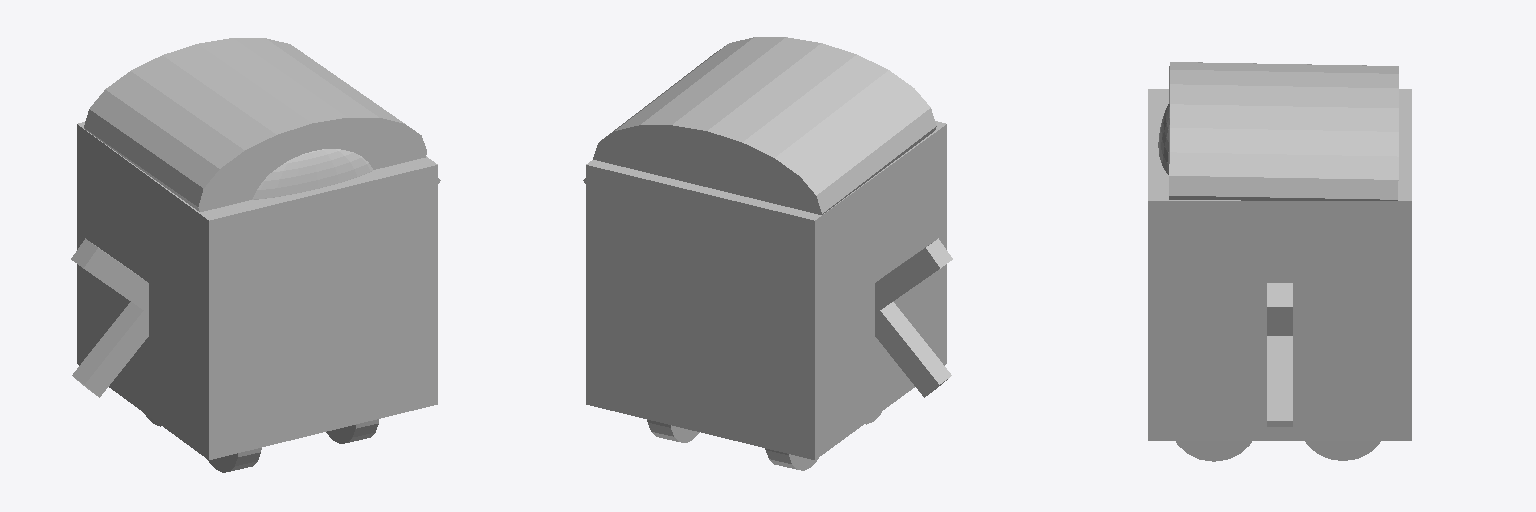
File: AssistBody.obj
The picture shows the model from 3 angles: view 1: azimuth 30°, elevation 25°; view 2: azimuth 150°, elevation 25°; view 3: azimuth 270°, elevation 25°; orthographic projection.
Visible parts, largest first — view 1: pCube8, pCylinder7, pSphere3, pCube9, pasted__pCube13, pasted__pasted__pCylinder8, pCylinder8; view 2: pCube8, pCylinder7, pCube9, pasted__pCube13, pasted__pCylinder8, pasted__pCylinder13; view 3: pCube8, pCylinder7, pasted__pCube14, pasted__pasted__pCube14, pCylinder8, pasted__pCylinder8, pSphere3.
Boxes of the visible parts, box(x1,y1,x2,y2) form: pCube8: box(77, 122, 437, 459); pCylinder7: box(84, 38, 426, 211); pSphere3: box(252, 149, 372, 199); pCube9: box(72, 302, 148, 397); pasted__pCube13: box(71, 238, 148, 309); pasted__pasted__pCylinder8: box(207, 448, 261, 472); pCylinder8: box(326, 419, 378, 443); pCube8: box(586, 121, 946, 459); pCylinder7: box(593, 37, 936, 214); pCube9: box(875, 302, 951, 397); pasted__pCube13: box(875, 238, 952, 309); pasted__pCylinder8: box(647, 420, 699, 442); pasted__pCylinder13: box(765, 448, 818, 470); pCube8: box(1148, 89, 1411, 440); pCylinder7: box(1169, 62, 1398, 200); pasted__pCube14: box(1267, 336, 1292, 426); pasted__pasted__pCube14: box(1267, 283, 1292, 335); pCylinder8: box(1176, 441, 1251, 461); pasted__pCylinder8: box(1305, 441, 1380, 460); pSphere3: box(1158, 104, 1169, 174).
Size of the model in its own units: 1.02 by 0.9351 by 0.6503.